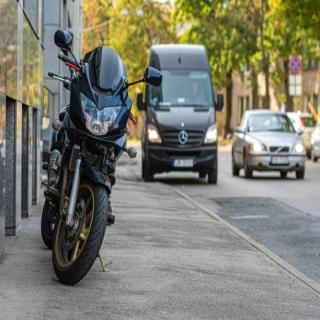Normal_vehicle: (141, 45, 219, 186), (232, 106, 308, 181), (285, 107, 314, 150), (309, 119, 320, 165)
